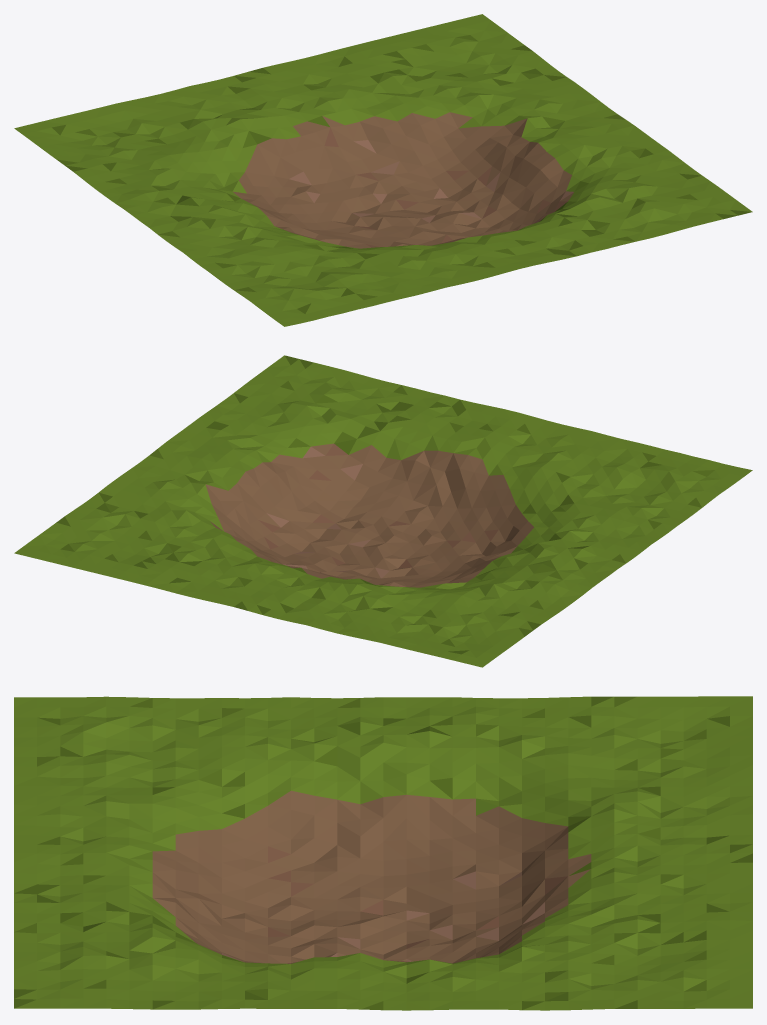
The model's file is mesh_terrain_small_05.fbx.
3 renders of one model, top to bottom at view 1: azimuth 30°, elevation 25°; view 2: azimuth 150°, elevation 25°; view 3: azimuth 270°, elevation 25°, orthographic. The views are drawn at different scales.
Visible parts, largest first — view 1: mesh_terrain_small_05; view 2: mesh_terrain_small_05; view 3: mesh_terrain_small_05.
Part boxes in pixels (x1,y1,x2,y2): mesh_terrain_small_05: [14, 14, 752, 326]; mesh_terrain_small_05: [14, 355, 752, 667]; mesh_terrain_small_05: [14, 696, 752, 1010].
Size of the model in its own units: 20 by 2.36 by 20.
